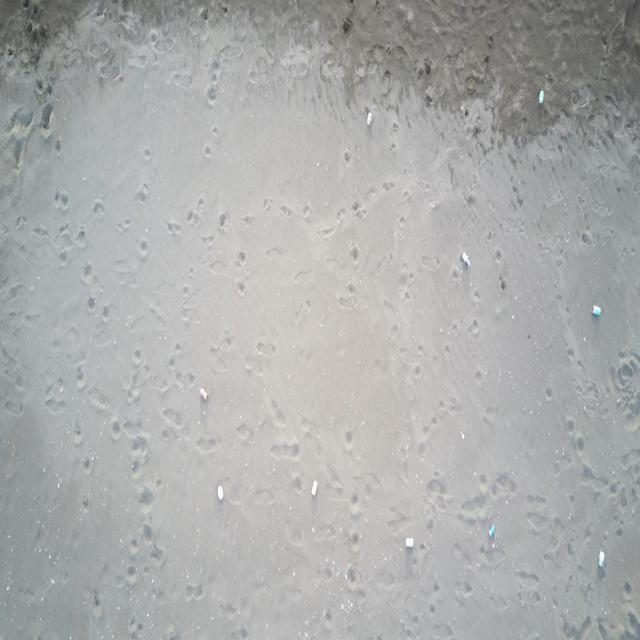tin-and-aluminum-cans: (460, 250, 471, 268), (199, 386, 209, 402), (598, 550, 605, 569), (538, 88, 545, 106), (592, 305, 602, 317), (218, 485, 225, 502), (366, 111, 373, 128), (312, 479, 318, 498), (405, 537, 415, 547), (489, 524, 496, 538)
